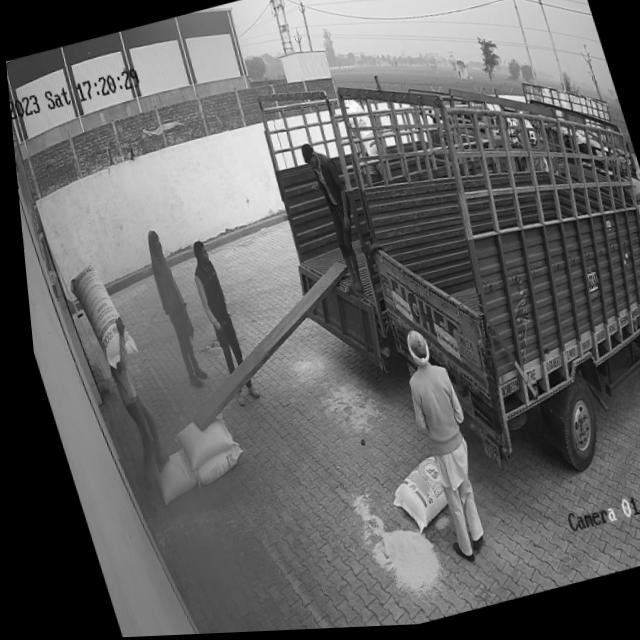sack: (58, 258, 134, 374), (372, 458, 444, 540), (161, 414, 230, 474), (140, 449, 191, 505), (180, 444, 239, 487)
